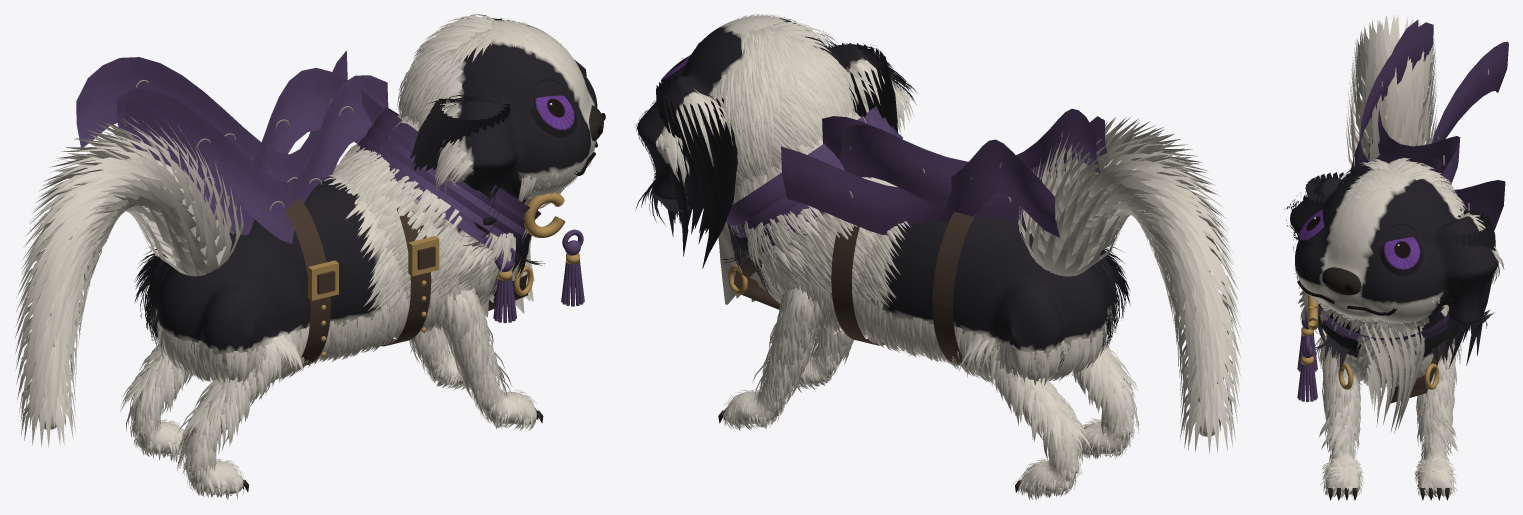
The model's file is 07_Maboro.glb.
The picture shows the model from 3 angles, left to right: view 1: azimuth 30°, elevation 25°; view 2: azimuth 150°, elevation 25°; view 3: azimuth 270°, elevation 25°; orthographic projection. The views are drawn at different scales.
Visible parts, largest first — view 1: FUR | groomed tapered surface clumps, ANATOMY | unified canine skin, FUR | directional tail plume, CLOTH | trailing scarf panel 1, CLOTH | trailing scarf panel 0, CLOTH | trailing scarf panel 2, FUR | long feathered Chin ear, TACK | shaped belly girth, CLOTH | layered neck scarf, CLOTH | layered neck scarf.002, CLOTH | layered neck scarf.001, TACK | shaped belly girth.001 (+5 smaller); view 2: FUR | groomed tapered surface clumps, ANATOMY | unified canine skin, FUR | directional tail plume, CLOTH | trailing scarf panel 2, FUR | long feathered Chin ear.001, CLOTH | trailing scarf panel 0, CLOTH | trailing scarf panel 1, TACK | shaped belly girth, TACK | shaped belly girth.001, CLOTH | layered neck scarf, FUR | long feathered Chin ear, FUR | silky white chest (+3 smaller); view 3: ANATOMY | unified canine skin, FUR | groomed tapered surface clumps, FUR | directional tail plume, CLOTH | trailing scarf panel 2, FUR | silky white chest, CLOTH | trailing scarf panel 1, CLOTH | trailing scarf panel 0, FUR | long feathered Chin ear.001, FACE | integrated cornea 1, FACE | shaped leather nose, CLOTH | layered neck scarf, FACE | integrated cornea -1 (+4 smaller).
Boxes of the visible parts, bbox=[...] form: FUR | groomed tapered surface clumps: bbox=[120, 14, 589, 499]; ANATOMY | unified canine skin: bbox=[132, 20, 597, 493]; FUR | directional tail plume: bbox=[15, 115, 243, 447]; CLOTH | trailing scarf panel 1: bbox=[117, 75, 388, 243]; CLOTH | trailing scarf panel 0: bbox=[126, 68, 384, 234]; CLOTH | trailing scarf panel 2: bbox=[76, 51, 347, 182]; FUR | long feathered Chin ear: bbox=[410, 97, 510, 171]; TACK | shaped belly girth: bbox=[285, 197, 330, 366]; CLOTH | layered neck scarf: bbox=[373, 107, 541, 236]; CLOTH | layered neck scarf.002: bbox=[356, 136, 524, 256]; CLOTH | layered neck scarf.001: bbox=[366, 124, 525, 237]; TACK | shaped belly girth.001: bbox=[381, 206, 431, 346]; FUR | groomed tapered surface clumps: bbox=[635, 14, 1139, 500]; ANATOMY | unified canine skin: bbox=[637, 16, 1130, 494]; FUR | directional tail plume: bbox=[1018, 117, 1241, 454]; CLOTH | trailing scarf panel 2: bbox=[781, 139, 1059, 237]; FUR | long feathered Chin ear.001: bbox=[656, 74, 737, 268]; CLOTH | trailing scarf panel 0: bbox=[839, 116, 1108, 223]; CLOTH | trailing scarf panel 1: bbox=[822, 108, 1100, 187]; TACK | shaped belly girth: bbox=[932, 212, 975, 365]; TACK | shaped belly girth.001: bbox=[831, 225, 884, 345]; CLOTH | layered neck scarf: bbox=[726, 106, 893, 227]; FUR | long feathered Chin ear: bbox=[828, 43, 897, 133]; FUR | silky white chest: bbox=[718, 221, 766, 304]; ANATOMY | unified canine skin: bbox=[1290, 167, 1498, 494]; FUR | groomed tapered surface clumps: bbox=[1284, 157, 1504, 500]; FUR | directional tail plume: bbox=[1345, 15, 1437, 165]; CLOTH | trailing scarf panel 2: bbox=[1432, 41, 1508, 230]; FUR | silky white chest: bbox=[1359, 323, 1424, 432]; CLOTH | trailing scarf panel 1: bbox=[1350, 22, 1440, 177]; CLOTH | trailing scarf panel 0: bbox=[1368, 19, 1460, 184]; FUR | long feathered Chin ear.001: bbox=[1437, 209, 1495, 368]; FACE | integrated cornea 1: bbox=[1383, 237, 1421, 270]; FACE | shaped leather nose: bbox=[1322, 267, 1361, 295]; CLOTH | layered neck scarf: bbox=[1318, 305, 1448, 344]; FACE | integrated cornea -1: bbox=[1298, 209, 1324, 241].
Bounding box in the file's own units: 0.8011 × 0.5172 × 0.3334.
9 materials, 1 textured.
